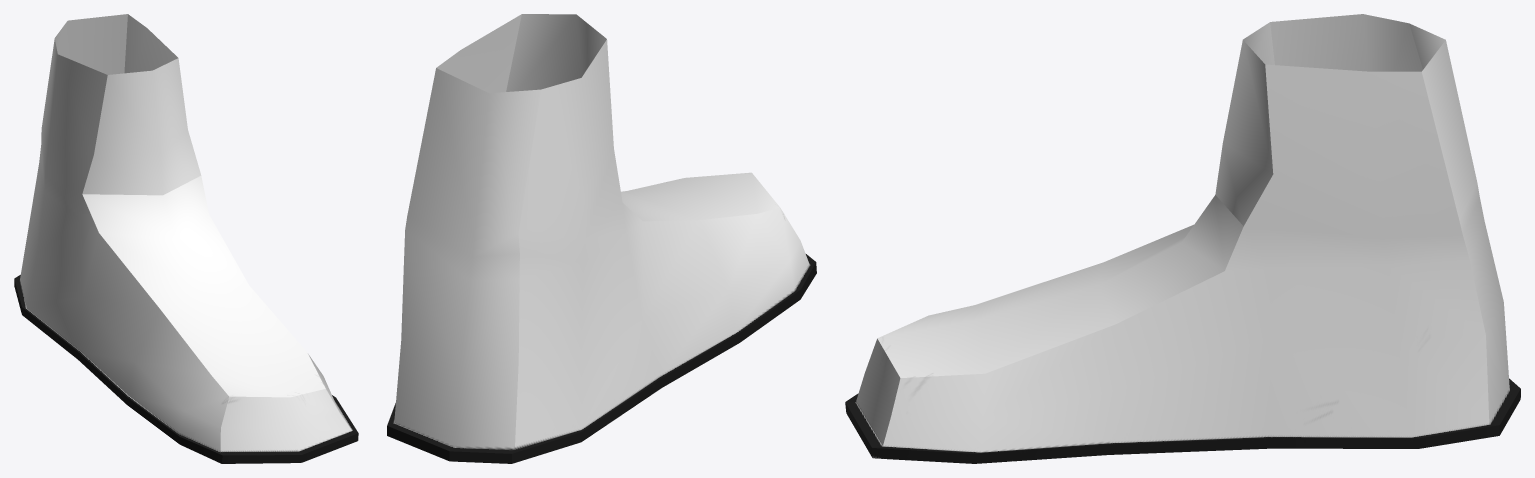
Rendered from iceSkate_R.fbx.
3 renders of one model, left to right at view 1: azimuth 30°, elevation 25°; view 2: azimuth 150°, elevation 25°; view 3: azimuth 270°, elevation 25°, orthographic. The views are drawn at different scales.
Parts seen in each view (by area): view 1: polySurface4; view 2: polySurface4; view 3: polySurface4.
Part boxes in pixels (<box>): polySurface4: <box>14,14,358,463</box>; polySurface4: <box>387,14,816,463</box>; polySurface4: <box>845,14,1520,463</box>.
Bounding box in the file's own units: 10.8 × 18.42 × 29.99.
Materials: 1 (1 with a texture image).
